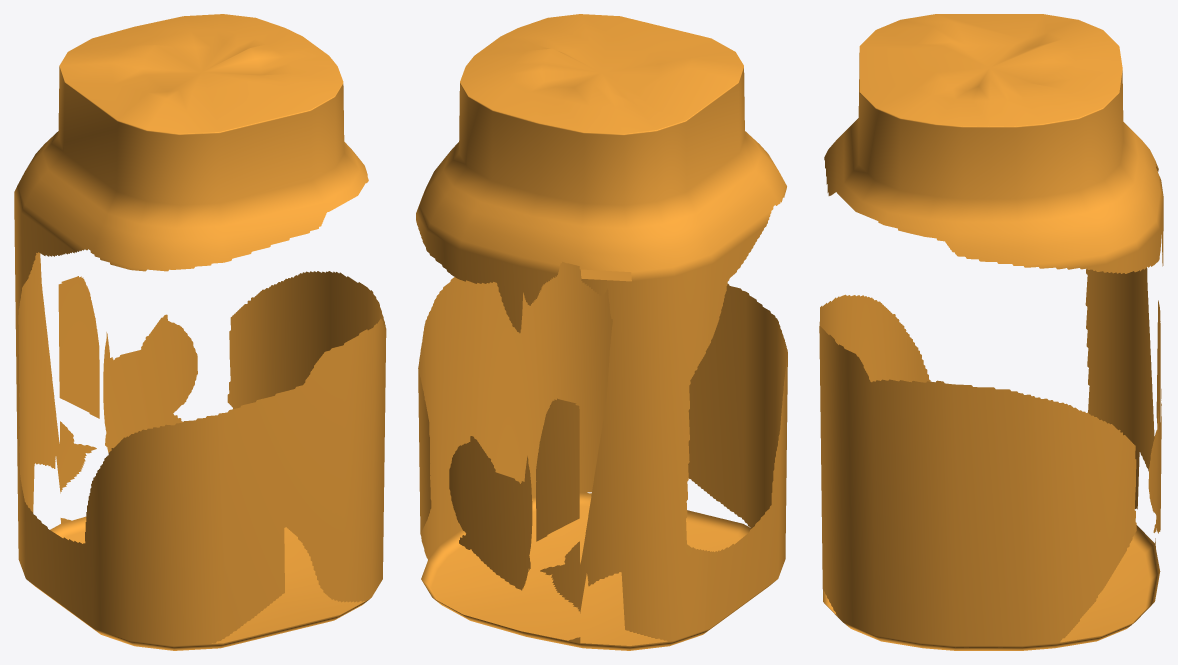
File: MASONJAR.fbx
3 views of the same model, side by side, from view 1: azimuth 30°, elevation 25°; view 2: azimuth 150°, elevation 25°; view 3: azimuth 270°, elevation 25° (orthographic).
Visible parts, largest first — view 1: liquid; view 2: liquid; view 3: liquid.
Part boxes in pixels (left/top/right/bottom): liquid: left=14, top=14, right=386, bottom=650; liquid: left=416, top=14, right=787, bottom=650; liquid: left=819, top=14, right=1163, bottom=650.
Bounding box in the file's own units: 7.27 × 7.23 × 12.17.
